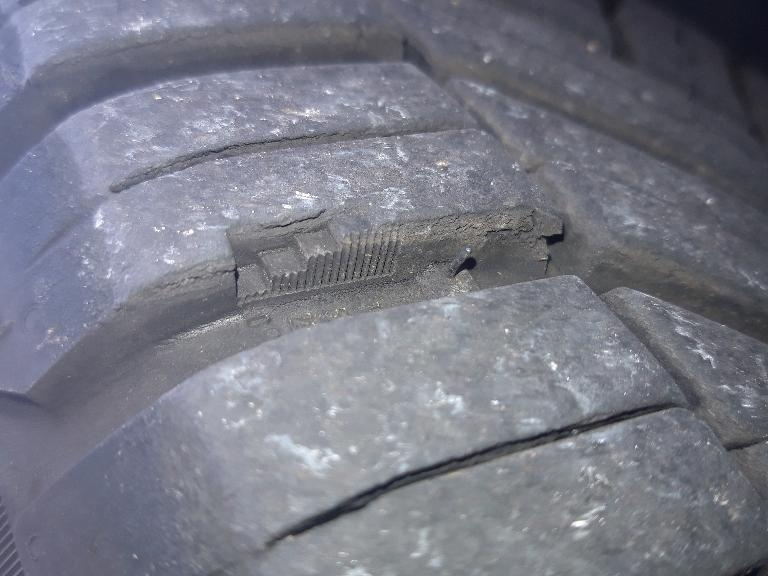temoin:80: (212, 188, 414, 314)
